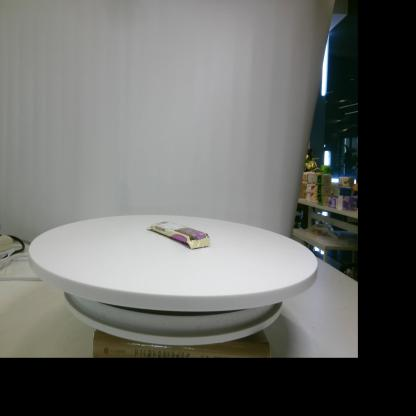Chocolate: (146, 221, 211, 250)
